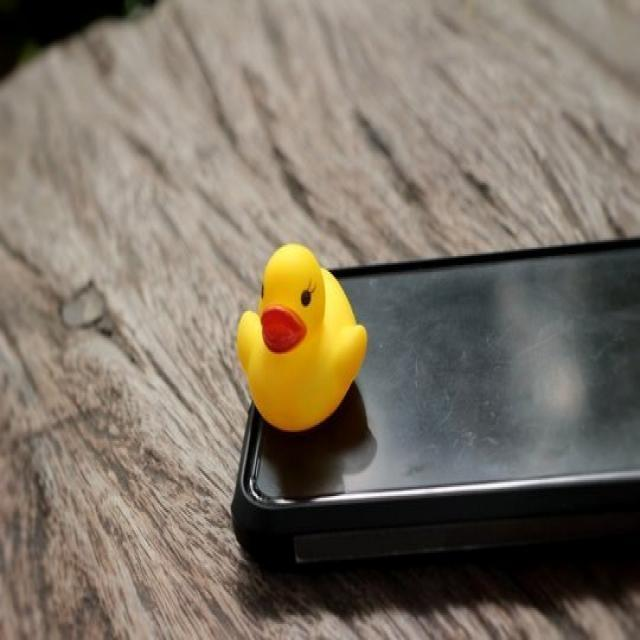rubber-duck: (236, 243, 365, 430)
